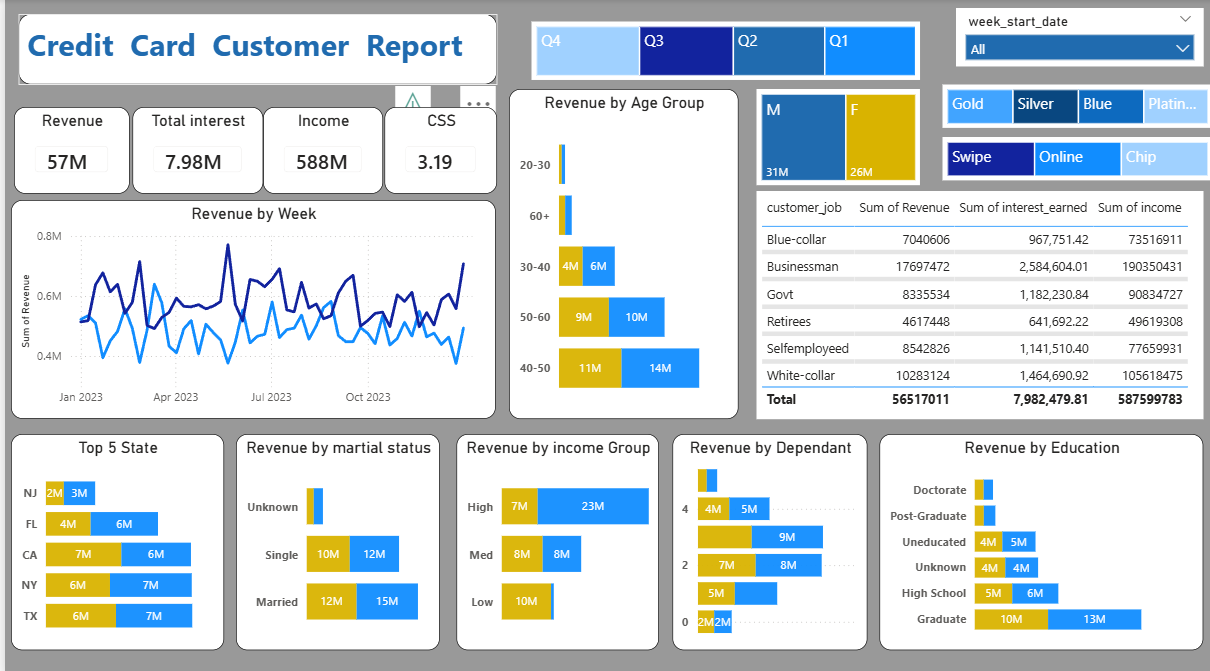

The dashboard page shown, as its layout file describes it:
{"tool":"powerbi","page":{"name":"CC Customer","canvas":[1280,720],"ordinal":2},"visuals":[{"type":"textbox","box":[14.3,15.9,507.4,74.8],"z":0},{"type":"barChart","title":"Revenue by income Group","fields":{"Y":["Sum(public cc_detail.Revenue)"],"Category":["public cust_detail.IncomeGroup"],"Series":["public cust_detail.gender"]},"box":[478.8,461.3,214.7,229],"z":1000},{"type":"tableEx","fields":{"Values":["public cust_detail.customer_job","Sum(public cc_detail.Revenue)","Sum(public cc_detail.interest_earned)","Sum(public cust_detail.income)"]},"box":[796.9,203.6,474,241.8],"z":2000},{"type":"cardVisual","title":"Revenue","fields":{"Data":["Sum(public cc_detail.Revenue)"]},"box":[9.5,114.5,122.5,92.3],"z":3000},{"type":"cardVisual","title":"Income","fields":{"Data":["Sum(public cust_detail.income)"]},"box":[273.6,114.5,127.2,92.3],"z":4000},{"type":"cardVisual","title":"Total interest","fields":{"Data":["Sum(public cc_detail.interest_earned)"]},"box":[135.2,114.5,138.4,92.3],"z":5000},{"type":"cardVisual","title":"CSS","fields":{"Data":["Avg(public cust_detail.cust_satisfaction_score)"]},"box":[402.4,114.5,119.3,92.3],"z":6000},{"type":"slicer","fields":{"Values":["public cc_detail.week_start_date"]},"box":[1008.4,9.5,262.5,62],"z":7000},{"type":"treemap","fields":{"Group":["public cc_detail.qtr"],"Values":["Avg(public cc_detail.client_num)"]},"box":[558.3,23.9,412,62],"z":8000},{"type":"treemap","fields":{"Values":["Avg(public cc_detail.client_num)"],"Group":["public cc_detail.card_category"]},"box":[994.1,90.7,286.3,46.1],"z":9000},{"type":"lineChart","title":"Revenue by Week","fields":{"Y":["Sum(public cc_detail.Revenue)"],"Series":["public cust_detail.gender"],"Category":["public cc_detail.week_start_date.Variation.Date Hierarchy.Year","public cc_detail.week_start_date.Variation.Date Hierarchy.Month","public cc_detail.week_start_date.Variation.Date Hierarchy.Day"]},"box":[6.4,213.1,513.8,232.2],"z":10000},{"type":"treemap","fields":{"Group":["public cust_detail.gender"],"Values":["Sum(public cc_detail.Revenue)"]},"box":[796.9,95.4,173.4,101.8],"z":11000},{"type":"barChart","title":"Revenue by Age Group","fields":{"Y":["Sum(public cc_detail.Revenue)"],"Category":["public cust_detail.Agegroup"],"Series":["public cust_detail.gender"]},"box":[534.4,95.4,243.4,349.9],"z":12000},{"type":"barChart","title":"Revenue by Dependant","fields":{"Y":["Sum(public cc_detail.Revenue)"],"Category":["public cust_detail.dependent_count"],"Series":["public cust_detail.gender"]},"box":[707.8,461.3,206.8,229],"z":13000},{"type":"barChart","title":"Revenue by Education","fields":{"Y":["Sum(public cc_detail.Revenue)"],"Category":["public cust_detail.education_level"],"Series":["public cust_detail.gender"]},"box":[927.3,461.3,343.6,229],"z":14000},{"type":"barChart","title":"Top 5 State","fields":{"Y":["Sum(public cc_detail.Revenue)"],"Category":["public cust_detail.state_cd"],"Series":["public cust_detail.gender"]},"box":[6.4,461.3,225.9,229],"z":15000},{"type":"barChart","title":"Revenue by martial status","fields":{"Y":["Sum(public cc_detail.Revenue)"],"Category":["public cust_detail.marital_status"],"Series":["public cust_detail.gender"]},"box":[245,461.3,216.3,229],"z":16000},{"type":"treemap","fields":{"Values":["Avg(public cc_detail.client_num)"],"Group":["public cc_detail.use_chip"]},"box":[994.1,146.3,286.3,46.1],"z":17000}]}

Visuals, with their boxes in screenshot pixels (x1, y1, x2, y2), scaled from the page's 1280x720 canvas onto the 1210x671 screenshot:
textbox: box(14, 15, 493, 85)
"Revenue by income Group" barChart: box(453, 430, 656, 643)
tableEx - public cust_detail.customer_job x Sum(public cc_detail.Revenue): box(753, 190, 1201, 415)
"Revenue" cardVisual: box(9, 107, 125, 193)
"Income" cardVisual: box(259, 107, 379, 193)
"Total interest" cardVisual: box(128, 107, 259, 193)
"CSS" cardVisual: box(380, 107, 493, 193)
slicer - public cc_detail.week_start_date: box(953, 9, 1201, 67)
treemap - public cc_detail.qtr x Avg(public cc_detail.client_num): box(528, 22, 917, 80)
treemap - Avg(public cc_detail.client_num) x public cc_detail.card_category: box(940, 85, 1209, 127)
"Revenue by Week" lineChart: box(6, 199, 492, 415)
treemap - public cust_detail.gender x Sum(public cc_detail.Revenue): box(753, 89, 917, 184)
"Revenue by Age Group" barChart: box(505, 89, 735, 415)
"Revenue by Dependant" barChart: box(669, 430, 865, 643)
"Revenue by Education" barChart: box(877, 430, 1201, 643)
"Top 5 State" barChart: box(6, 430, 220, 643)
"Revenue by martial status" barChart: box(232, 430, 436, 643)
treemap - Avg(public cc_detail.client_num) x public cc_detail.use_chip: box(940, 136, 1209, 179)
